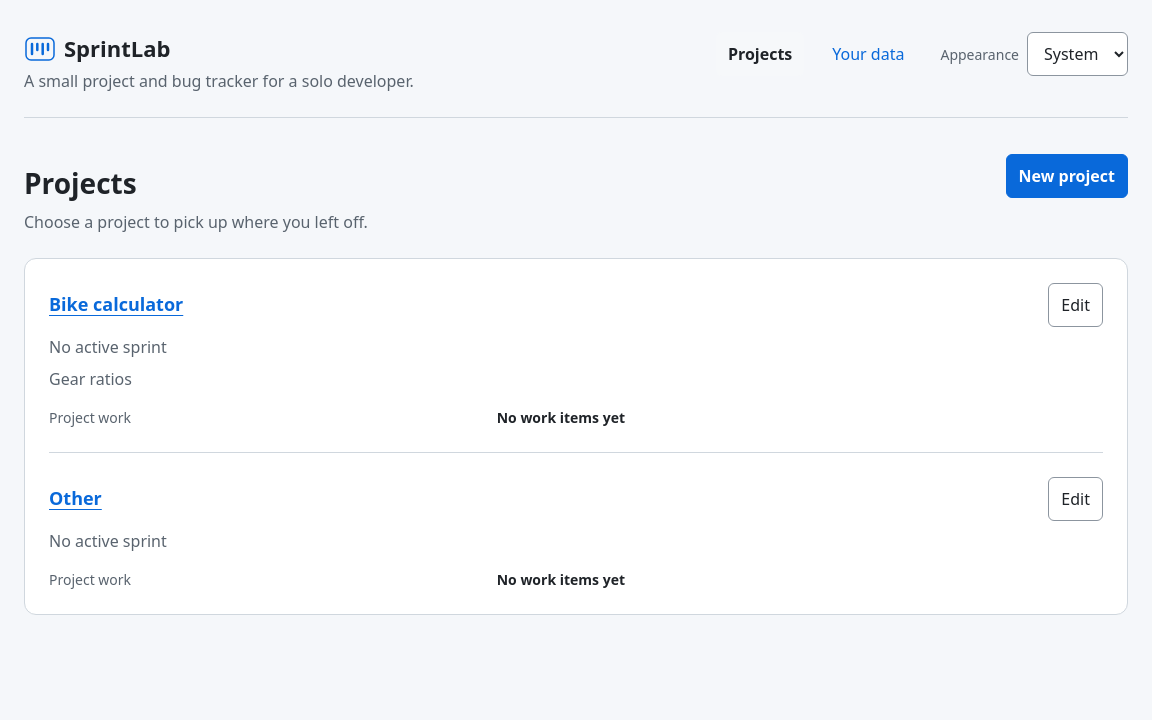
Work items › opens a project from the projects list
What coordinates should you click on to do the following:
click the link "Bike calculator"
I would click on:
 (116, 304)
Its box is [49,292,183,316].
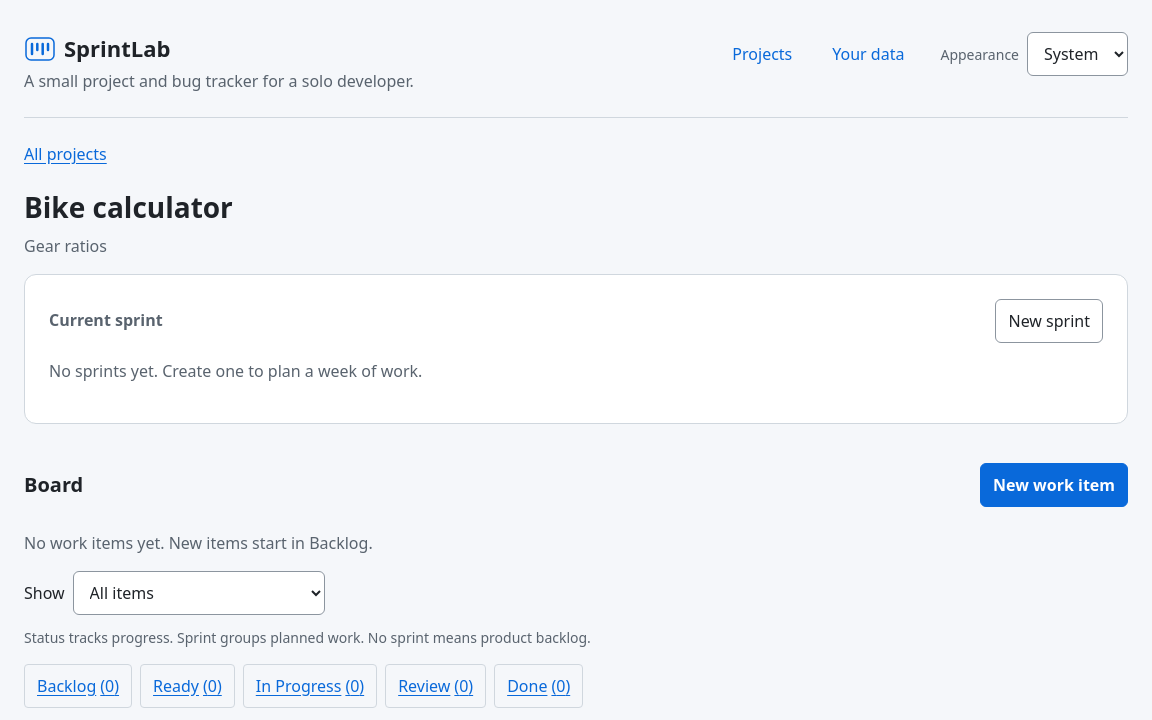
Expected: the heading "Bike calculator" is shown, [24,189,233,226]
Expected: the text "No work items yet. New items start in Backlog." is shown, [24,532,373,554]
